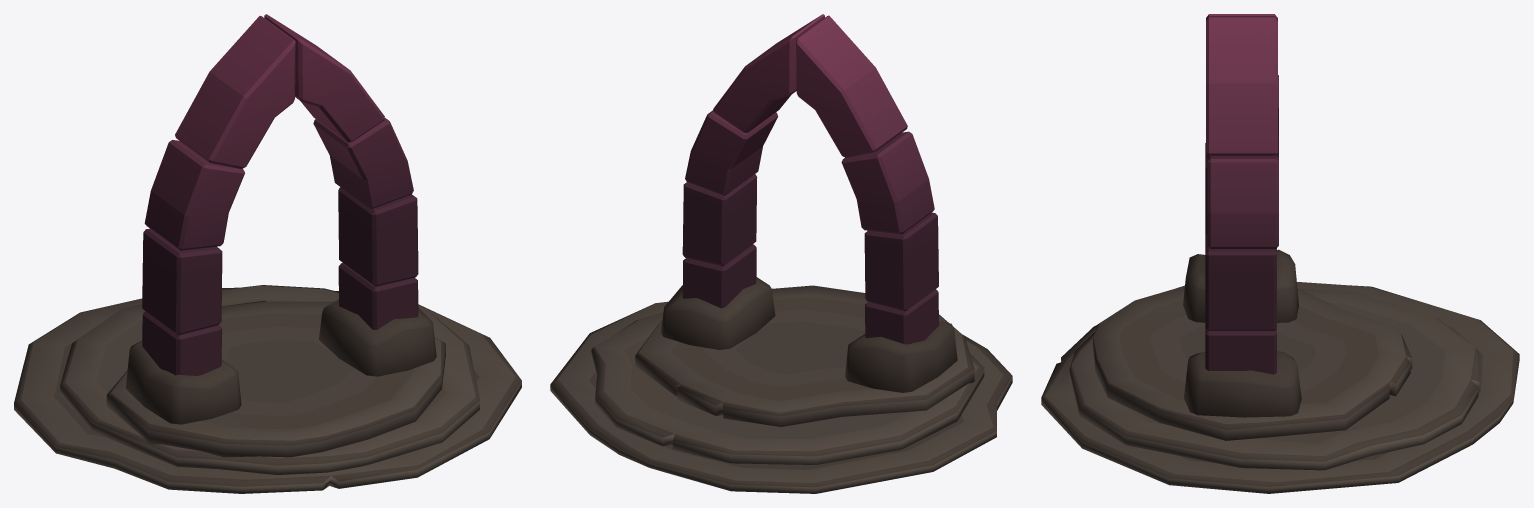
Rendered from obj_FirePortal.fbx.
The picture shows the model from 3 angles, left to right: view 1: azimuth 30°, elevation 25°; view 2: azimuth 150°, elevation 25°; view 3: azimuth 270°, elevation 25°; orthographic projection. The views are drawn at different scales.
Visible parts, largest first — view 1: obj_FirePortal; view 2: obj_FirePortal; view 3: obj_FirePortal.
Boxes of the visible parts, left/top/right/bottom form: obj_FirePortal: left=14, top=14, right=521, bottom=493; obj_FirePortal: left=550, top=14, right=1012, bottom=493; obj_FirePortal: left=1041, top=14, right=1519, bottom=493.
Bounding box in the file's own units: 1564 × 1331 × 1525.
